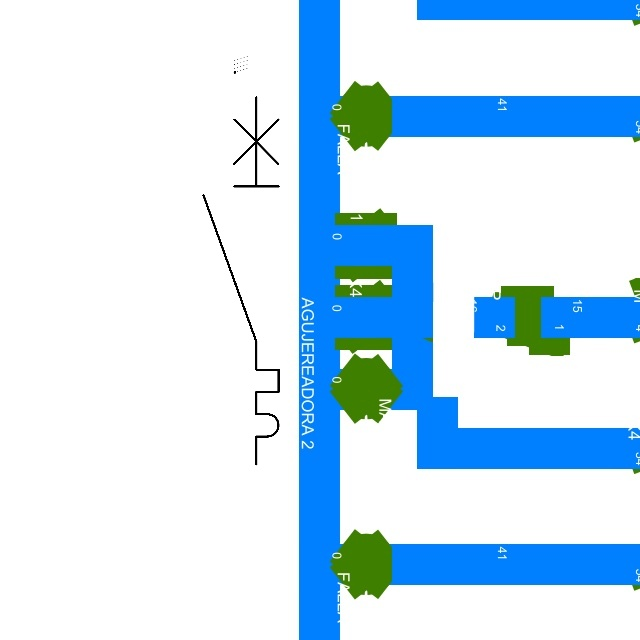interruptor_termomagnetico: (194, 87, 288, 473)
